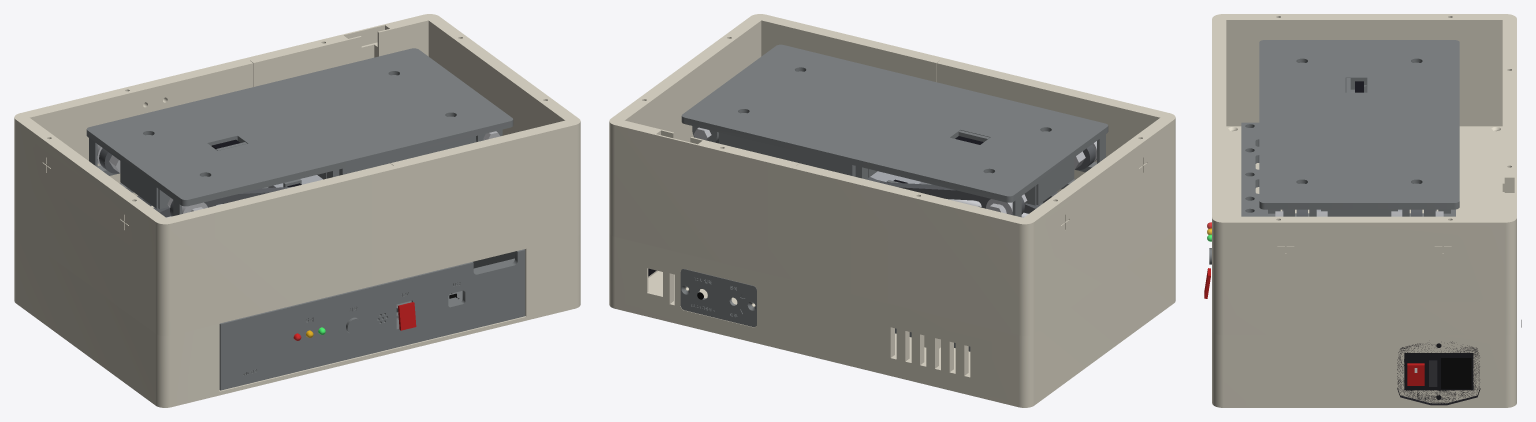
3 renders of one model, left to right at view 1: azimuth 30°, elevation 25°; view 2: azimuth 150°, elevation 25°; view 3: azimuth 270°, elevation 25°, orthographic.
Visible parts, largest first — view 1: c1_box, c0_drawer, c0_box, L_1-L6, L_1-L7, L_1-L3_A_F; view 2: c1_box, c0_box, L_1-L6, L_1-L7, c0_fix, L_1-L3_A_R; view 3: c1_box, c0_box, L_1-L7, L_1-L6, c0_fix, L_fixed.
Boxes of the visible parts, bbox=[...] form: c1_box: bbox=[14, 14, 580, 335]; c0_drawer: bbox=[219, 249, 525, 390]; c0_box: bbox=[14, 230, 580, 407]; L_1-L6: bbox=[86, 88, 349, 215]; L_1-L7: bbox=[251, 48, 513, 173]; L_1-L3_A_F: bbox=[170, 186, 293, 216]; c1_box: bbox=[609, 14, 1175, 335]; c0_box: bbox=[609, 230, 1175, 407]; L_1-L6: bbox=[845, 84, 1108, 217]; L_1-L7: bbox=[681, 44, 944, 174]; c0_fix: bbox=[648, 268, 756, 326]; L_1-L3_A_R: bbox=[876, 181, 1024, 214]; c1_box: bbox=[1212, 14, 1516, 335]; c0_box: bbox=[1212, 331, 1516, 407]; L_1-L7: bbox=[1259, 121, 1459, 216]; L_1-L6: bbox=[1259, 40, 1459, 121]; c0_fix: bbox=[1397, 320, 1521, 405]; L_fixed: bbox=[1241, 122, 1455, 216].
Size of the model in its own units: 0.3517 by 0.143 by 0.2217.
